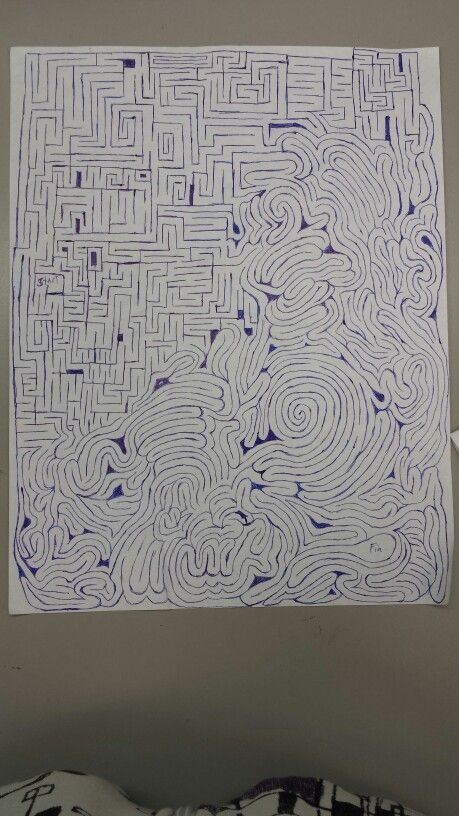maze: (11, 50, 448, 608)
